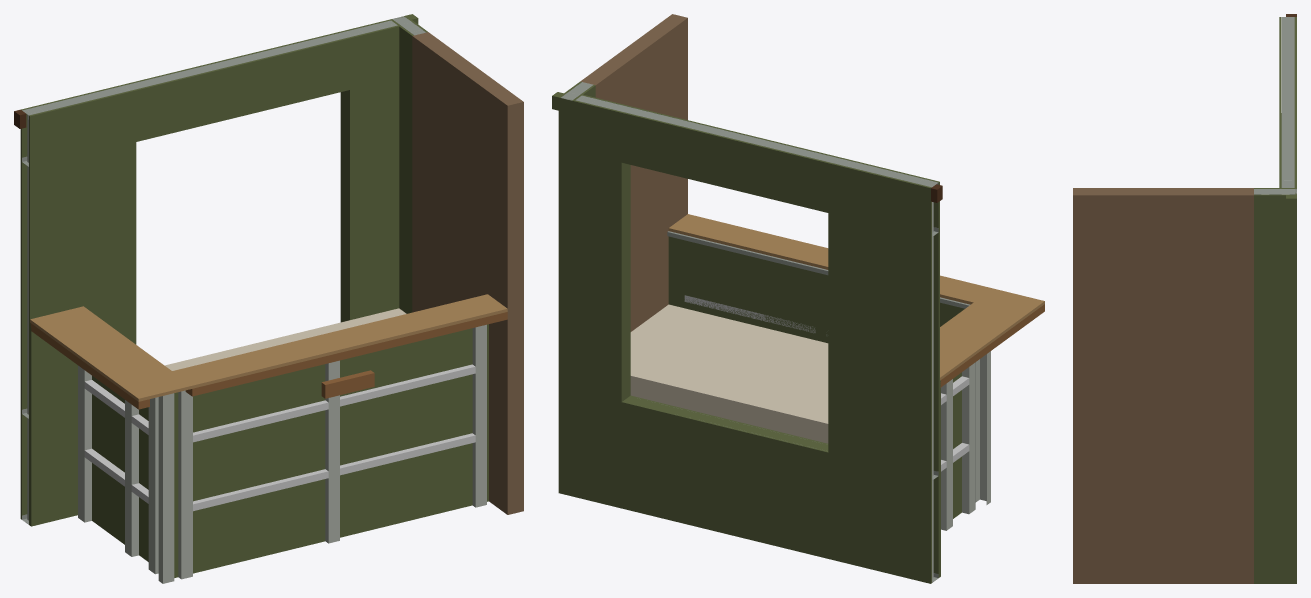
File: cabin_bed_assembly.obj
3 renders of one model, left to right at view 1: azimuth 30°, elevation 25°; view 2: azimuth 150°, elevation 25°; view 3: azimuth 270°, elevation 25°, orthographic. The views are drawn at different scales.
Parts seen in each view (by area): view 1: Rear-Fascia-PB, Existing-FootWall, Front-PB-Alcove-Above, Front-PB-Alcove-RightPier, Front-PB-Alcove-LeftPier, Head-PB-FrontFace, Rear-Deck, Head-Deck, Head-PB-BedFace, FootExt-PB-Inner, Corner-Post-RearHead, Rear-Fascia-Stud-3 (+19 smaller); view 2: Front-PB-Room-Below, Front-PB-Room-RightPier, Mattress, Front-PB-Room-Above, Existing-FootWall, Front-PB-Room-LeftPier, Rear-Fascia-PB, FootExt-PB-Front, Head-Deck, Rear-Deck, Front-Track-Ceiling, Front-Reveal-Left (+14 smaller); view 3: Existing-FootWall, FootExt-PB-Outer, Front-Track-Ceiling, Front-PB-Room-Above, Front-PB-Alcove-Above.
Boxes of the visible parts, box(x1,y1,x2,y2) form: Rear-Fascia-PB: box(174, 324, 488, 577); Existing-FootWall: box(412, 32, 523, 514); Front-PB-Alcove-Above: box(29, 25, 399, 167); Front-PB-Alcove-RightPier: box(29, 142, 136, 415); Front-PB-Alcove-LeftPier: box(348, 78, 399, 319); Head-PB-FrontFace: box(30, 323, 77, 526); Rear-Deck: box(172, 294, 507, 388); Head-Deck: box(30, 306, 192, 401); Head-PB-BedFace: box(92, 376, 148, 561); FootExt-PB-Inner: box(390, 19, 413, 313); Corner-Post-RearHead: box(158, 393, 174, 583); Rear-Fascia-Stud-3: box(178, 390, 192, 579); Front-PB-Room-Below: box(574, 390, 931, 583); Front-PB-Room-RightPier: box(828, 213, 931, 477); Mattress: box(630, 304, 828, 443); Front-PB-Room-Above: box(574, 100, 931, 237); Existing-FootWall: box(580, 14, 687, 331); Front-PB-Room-LeftPier: box(574, 151, 622, 401); Rear-Fascia-PB: box(668, 236, 964, 343); FootExt-PB-Front: box(558, 97, 573, 496); Head-Deck: box(940, 288, 1044, 380); Rear-Deck: box(668, 214, 992, 304); Front-Track-Ceiling: box(575, 95, 938, 187); Front-Reveal-Left: box(619, 162, 630, 401); Existing-FootWall: box(1073, 188, 1253, 583); FootExt-PB-Outer: box(1254, 194, 1296, 583); Front-Track-Ceiling: box(1281, 17, 1294, 187); Front-PB-Room-Above: box(1294, 17, 1296, 187); Front-PB-Alcove-Above: box(1279, 17, 1281, 187).
Size of the model in its own units: 2.42 by 2.38 by 1.24.
